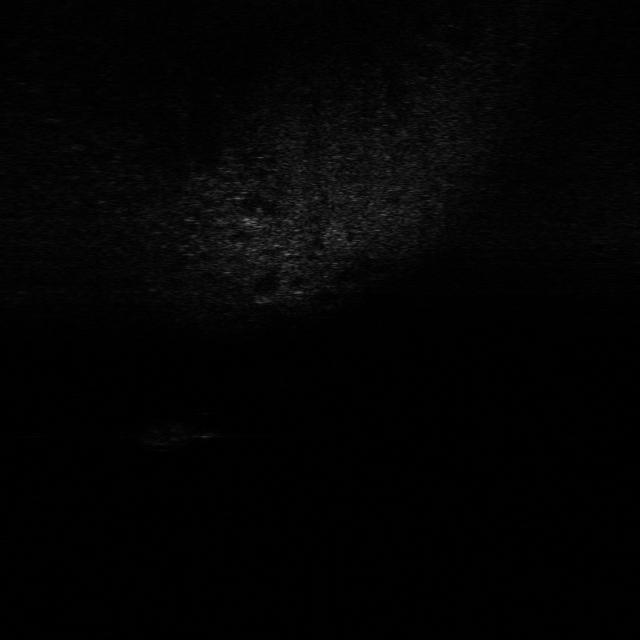ball: (188, 409, 232, 443)
circle cage: (141, 418, 193, 454)
